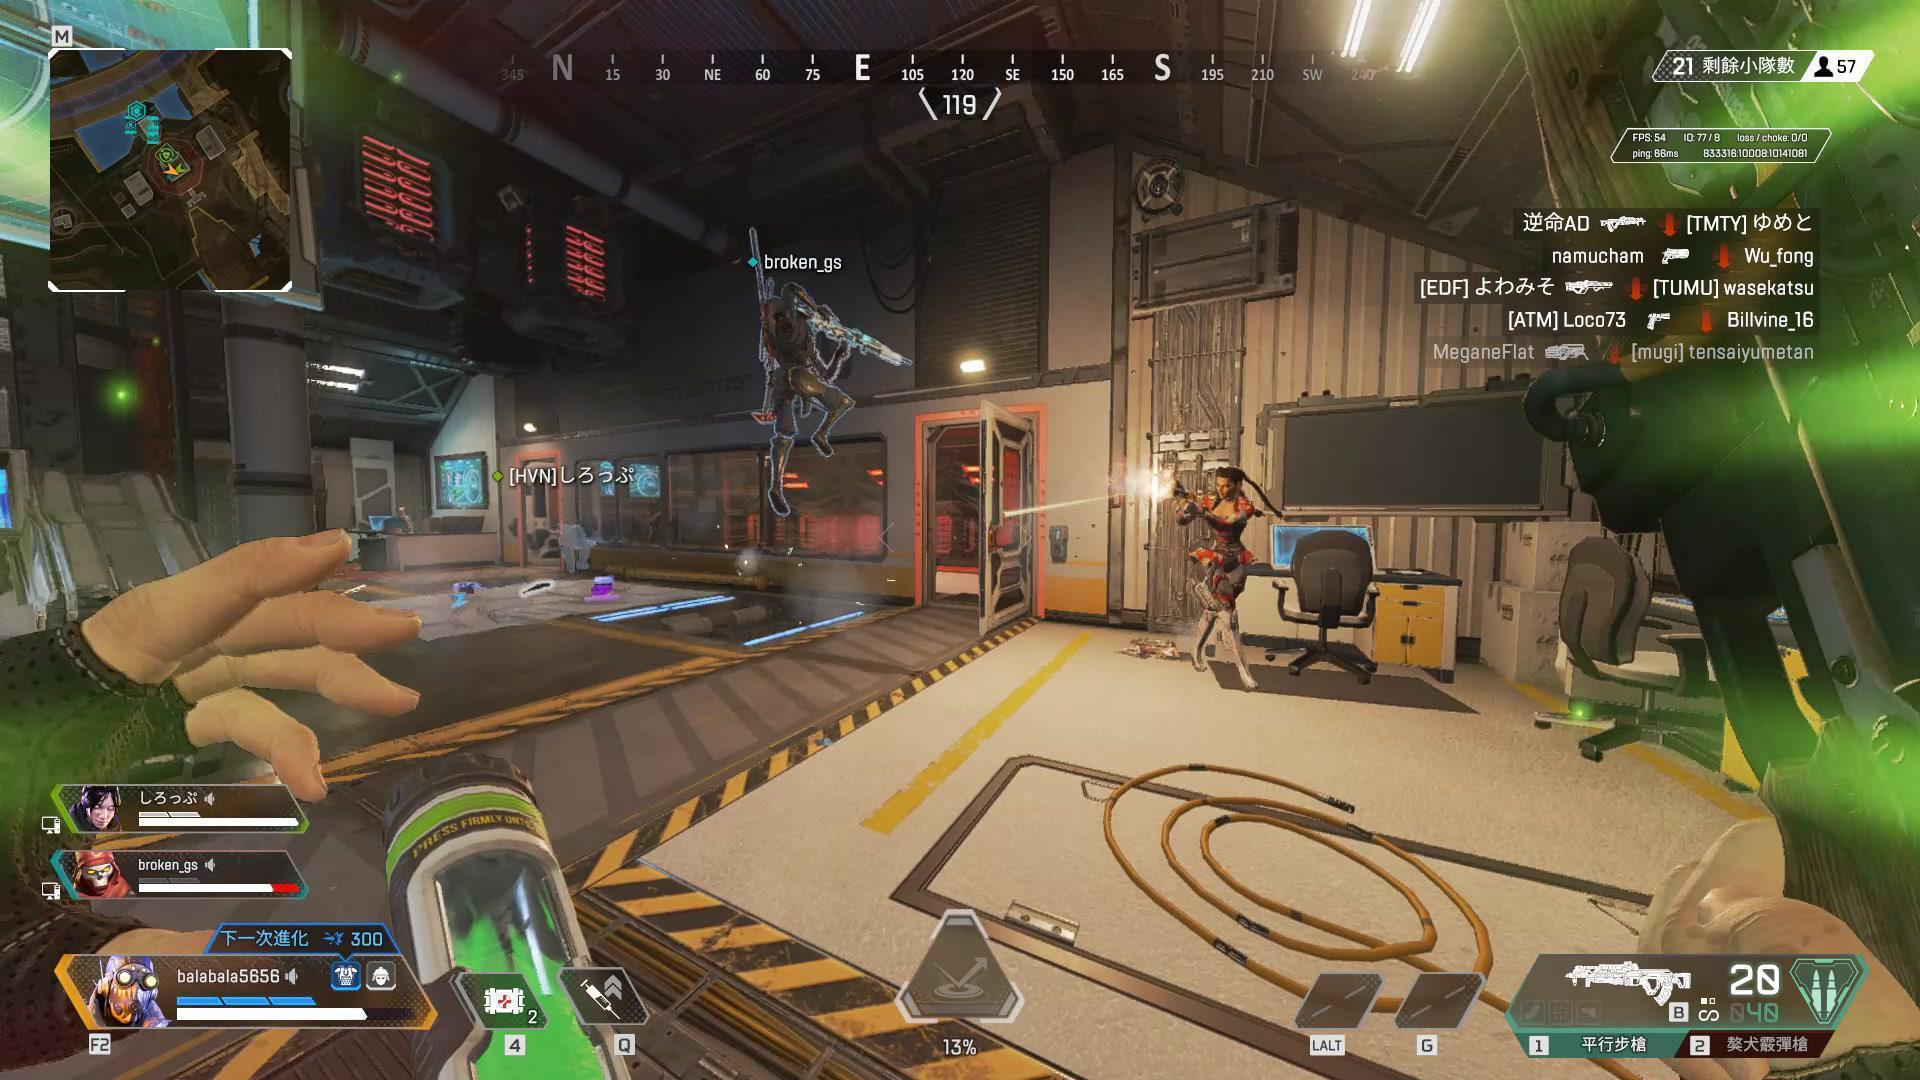avatar: (755, 281, 857, 522), (1180, 462, 1268, 685)
